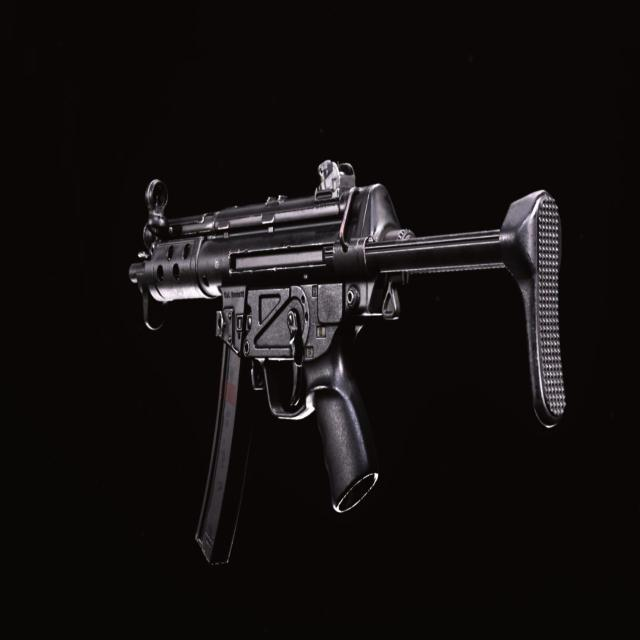Weapon: (129, 161, 565, 562)
